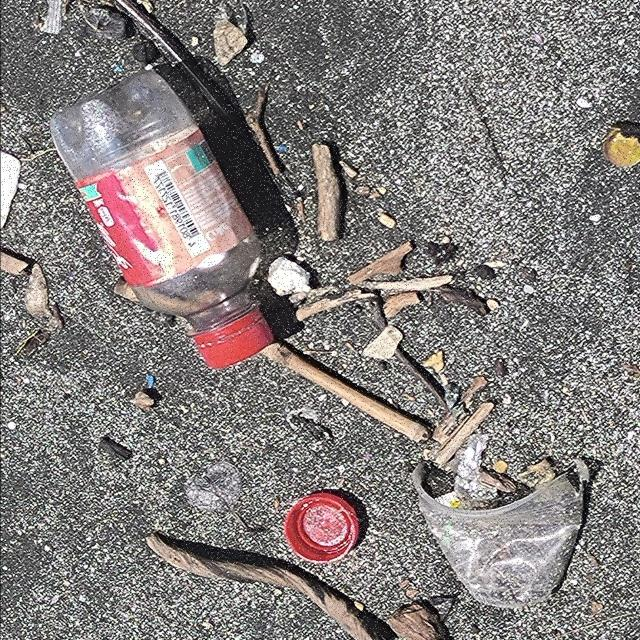plastic_waste: (51, 71, 277, 370), (412, 459, 586, 611), (284, 496, 362, 565)
